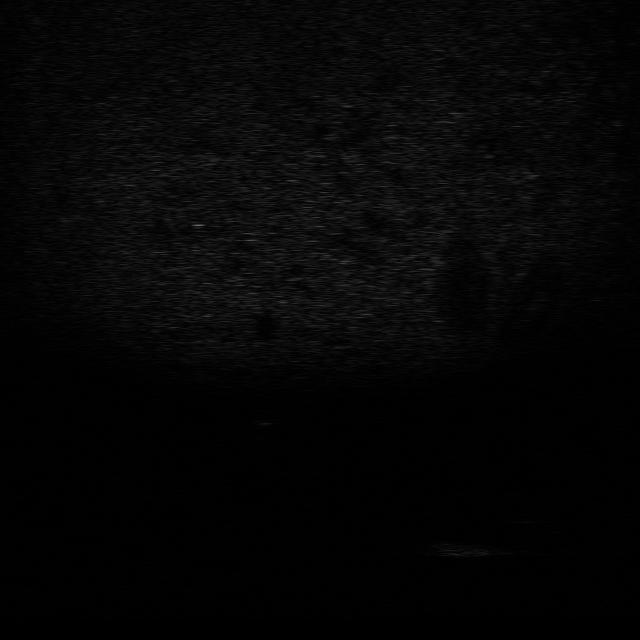ball: (244, 405, 286, 427)
metal bucket: (424, 536, 504, 560)
tyre: (510, 493, 558, 526)
